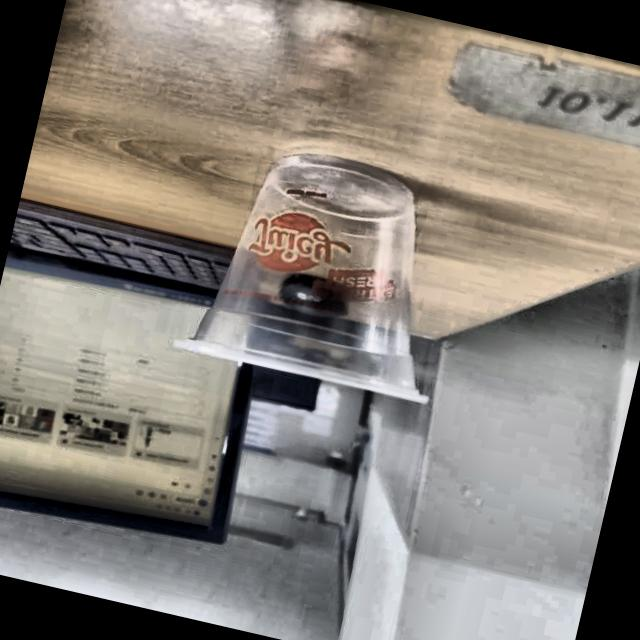plastic cup: (173, 134, 480, 407)
